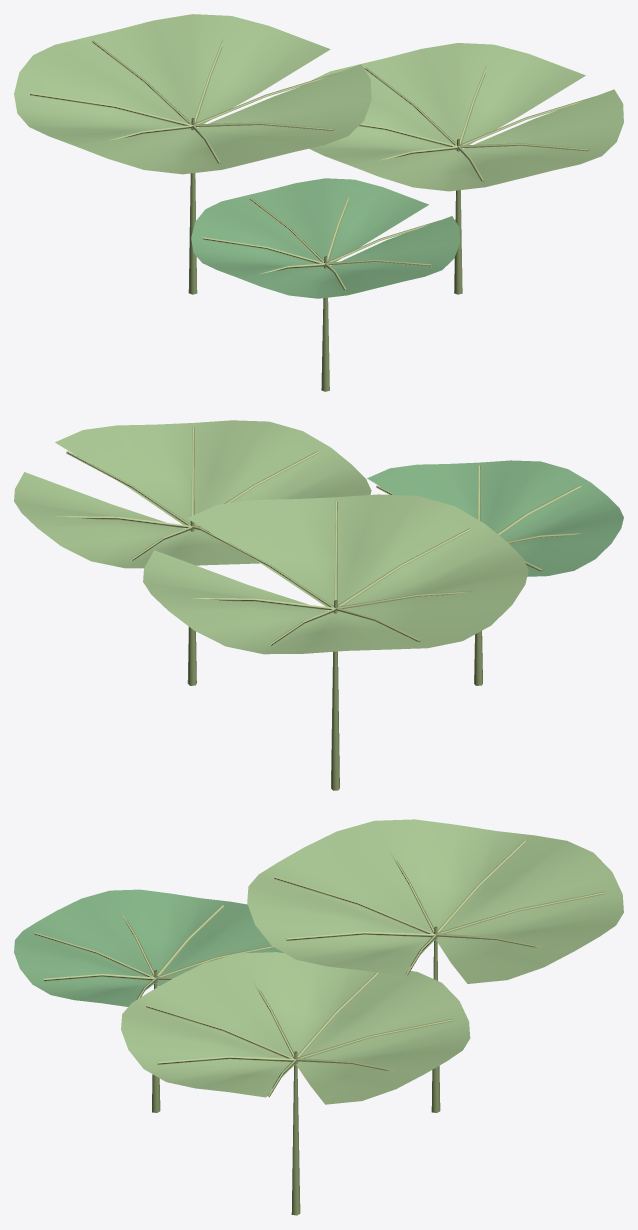
The model's file is lake_lotus_1.glb.
3 renders of one model, top to bottom at view 1: azimuth 30°, elevation 25°; view 2: azimuth 150°, elevation 25°; view 3: azimuth 270°, elevation 25°, orthographic. The views are drawn at different scales.
Visible parts, largest first — view 1: lake_lotus_1_LakeLeafLight, lake_lotus_1_LakeLeaf, lake_lotus_1_LakeVein, lake_lotus_1_LakeReed; view 2: lake_lotus_1_LakeLeafLight, lake_lotus_1_LakeLeaf, lake_lotus_1_LakeVein, lake_lotus_1_LakeReed; view 3: lake_lotus_1_LakeLeafLight, lake_lotus_1_LakeLeaf, lake_lotus_1_LakeVein, lake_lotus_1_LakeReed.
Part boxes in pixels (x1,y1,x2,y2): lake_lotus_1_LakeLeafLight: (14,14,623,191); lake_lotus_1_LakeLeaf: (191,178,459,298); lake_lotus_1_LakeVein: (30,39,594,291); lake_lotus_1_LakeReed: (188,117,462,391); lake_lotus_1_LakeLeafLight: (14,420,528,654); lake_lotus_1_LakeLeaf: (367,460,623,576); lake_lotus_1_LakeVein: (56,426,586,646); lake_lotus_1_LakeReed: (187,521,482,790); lake_lotus_1_LakeLeafLight: (121,819,623,1104); lake_lotus_1_LakeLeaf: (14,889,283,1006); lake_lotus_1_LakeVein: (34,840,605,1097); lake_lotus_1_LakeReed: (152,926,440,1215).
Bounding box in the file's own units: 1.79 × 0.7042 × 1.81.
